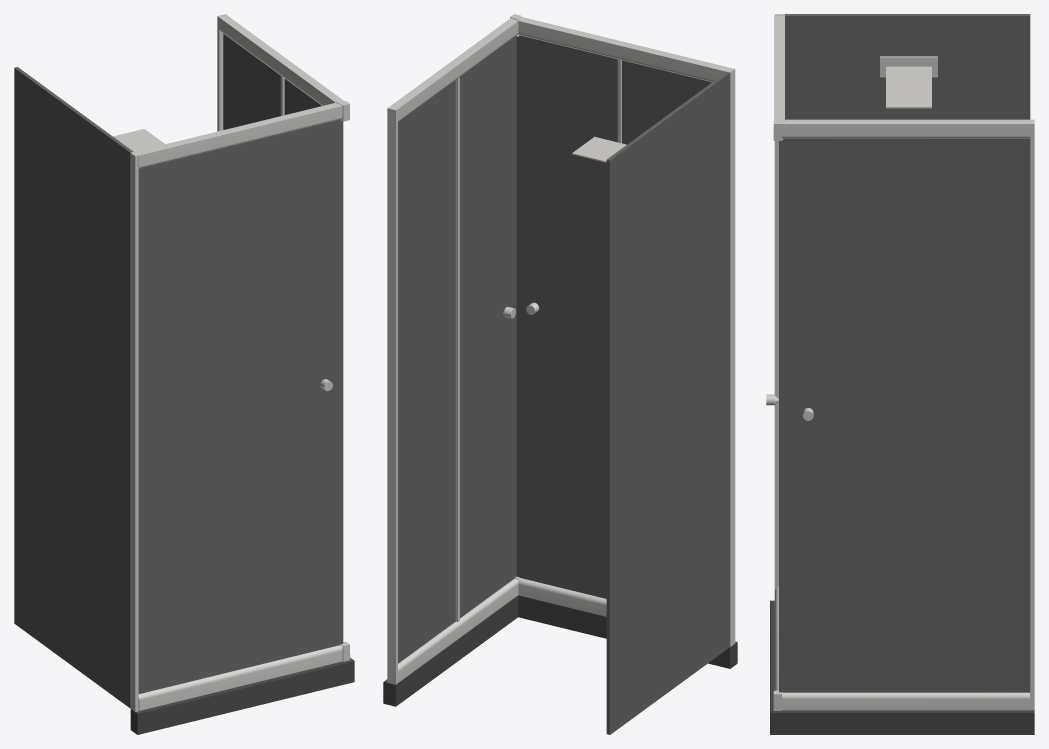
Rendered from Shower_enclosures_004.gltf.
The picture shows the model from 3 angles, left to right: view 1: azimuth 30°, elevation 25°; view 2: azimuth 150°, elevation 25°; view 3: azimuth 270°, elevation 25°; orthographic projection. The views are drawn at different scales.
Visible parts, largest first — view 1: Shower_enclosures_004; view 2: Shower_enclosures_004; view 3: Shower_enclosures_004.
Part boxes in pixels (x1,y1,x2,y2): Shower_enclosures_004: [14, 14, 354, 734]; Shower_enclosures_004: [383, 14, 737, 734]; Shower_enclosures_004: [766, 14, 1034, 734].
Size of the model in its own units: 0.7824 by 1.96 by 0.7816.
2 materials, 2 textured.
